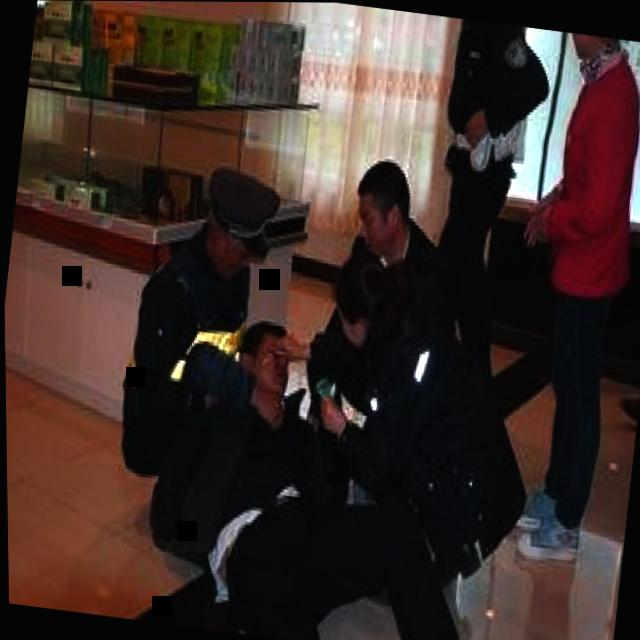Fall-Detected: (165, 285, 514, 640)
